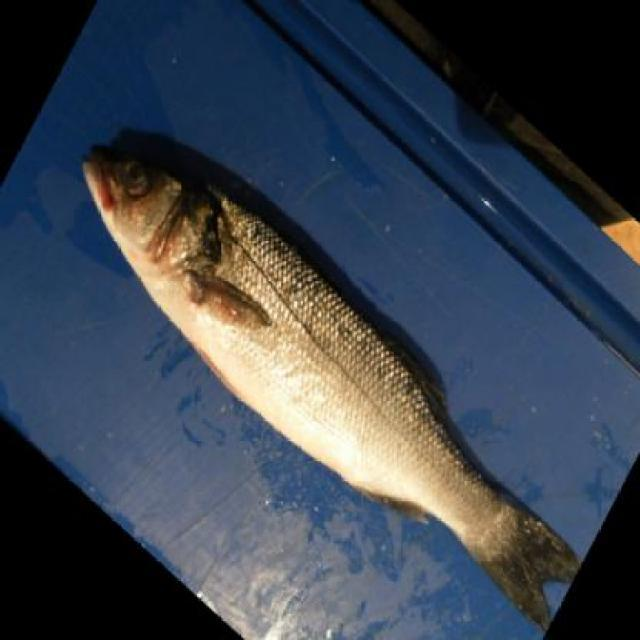Healthy Fish: (70, 132, 589, 637)
